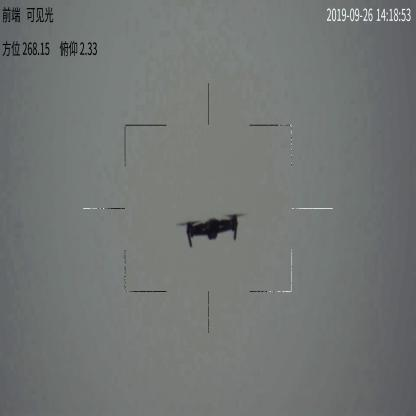uav: (174, 211, 249, 250)
